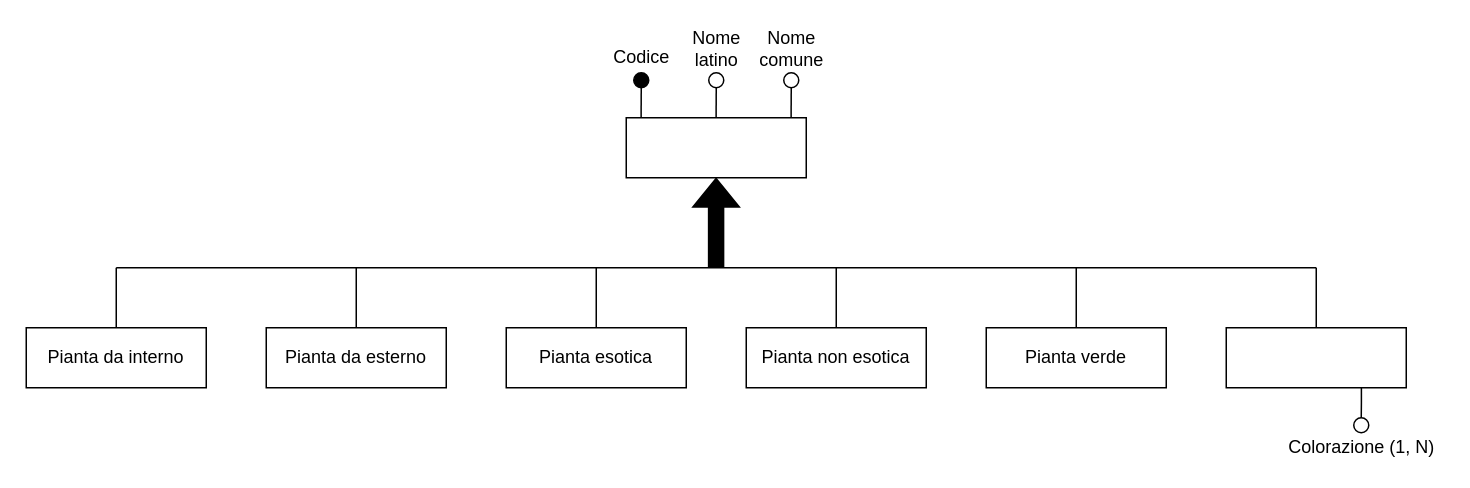
The diagram is 1470 pixels wide and 488 high, and some of its shapes have lost their labels. Here are the shapes that lost their labels. From the top down, the centre of each, then its label:
At (x=715, y=147): "Pianta".
At (x=1315, y=357): "Pianta fiorita".
